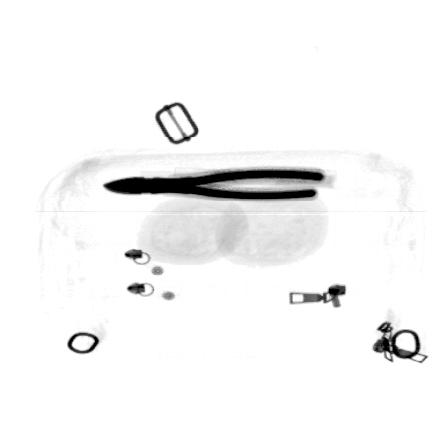Pliers: (101, 166, 328, 202)
